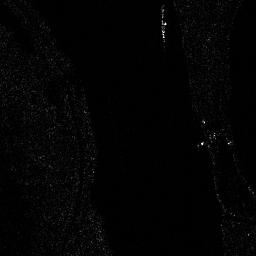ship: (158, 5, 168, 45)
